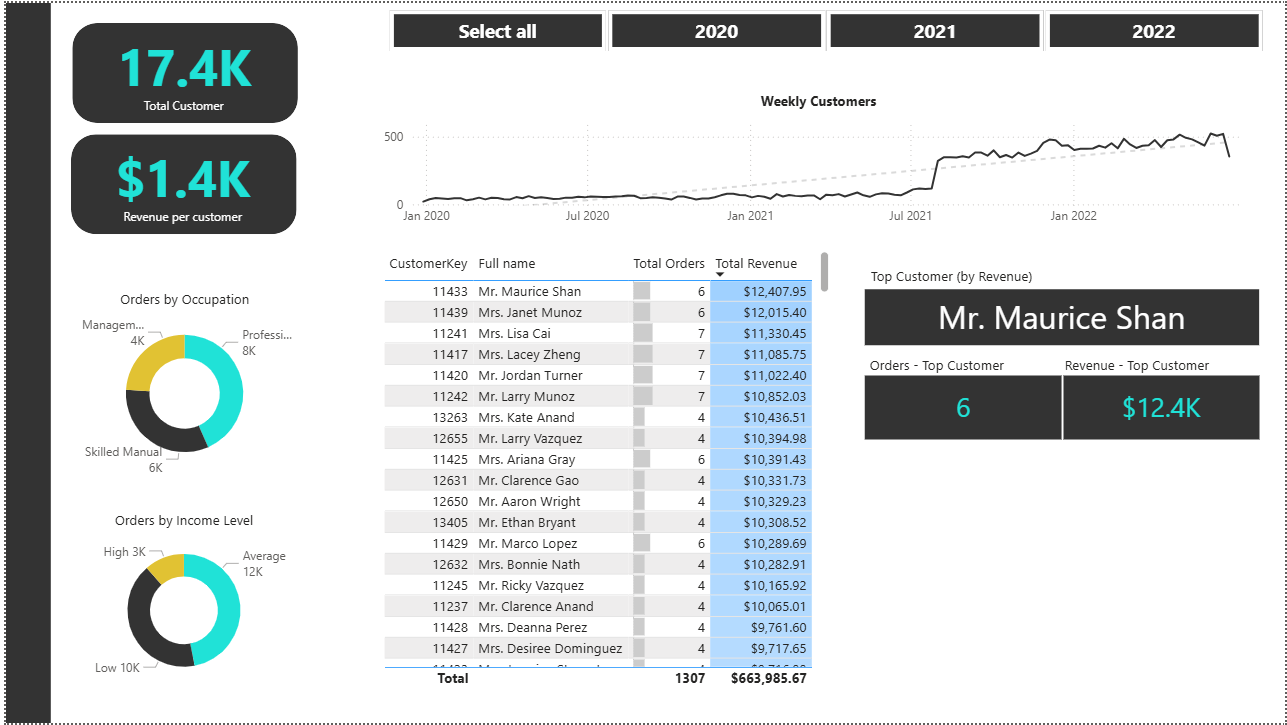

What the dashboard file says about the page in this screenshot:
{"tool":"powerbi","page":{"name":"Customer Details","canvas":[1280,720],"ordinal":3},"visuals":[{"type":"shape","box":[0,0,45,720],"z":0},{"type":"shape","box":[66.4,20.5,225.7,100],"z":1000},{"type":"shape","box":[65,131.5,225.7,100],"z":2000},{"type":"card","fields":{"Values":["Measure Table.Total Customer"]},"box":[73.8,23,208.8,95],"z":3000},{"type":"card","fields":{"Values":["Measure Table.Revenue per customer"]},"box":[72.3,134,208.8,95],"z":4000},{"type":"lineChart","title":"Weekly Customers","fields":{"Category":["Calendar Lookup.Start of week"],"Y":["Measure Table.Total Customer"]},"box":[372.9,88.6,880,142.9],"z":5000},{"type":"donutChart","title":"Orders by Occupation","fields":{"Category":["Customer Lookup.Occupation"],"Y":["Measure Table.Total Orders"]},"box":[66.2,286.2,225,191.2],"z":6000},{"type":"donutChart","title":"Orders by Income Level","fields":{"Y":["Measure Table.Total Orders"],"Category":["Customer Lookup.Income Level"]},"box":[65,507.5,226.2,182.5],"z":7000},{"type":"tableEx","fields":{"Values":["Customer Lookup.CustomerKey","Customer Lookup.Full name","Measure Table.Total Orders","Measure Table.Total Revenue"]},"box":[372.9,244.3,455.7,445.7],"z":8000},{"type":"card","fields":{"Values":["Customer Lookup.Full name"]},"box":[858.6,285.7,394.3,55.7],"z":9000},{"type":"textbox","box":[860,258.6,195.7,34.3],"z":10000},{"type":"card","fields":{"Values":["Measure Table.Total Orders"]},"box":[858.6,372.9,197.1,64.3],"z":11000},{"type":"card","fields":{"Values":["Measure Table.Total Revenue"]},"box":[1057.1,372.9,195.7,64.3],"z":12000},{"type":"textbox","box":[858.6,347.1,195.7,34.3],"z":13000},{"type":"textbox","box":[1054.3,347.1,195.7,34.3],"z":14000},{"type":"slicer","fields":{"Values":["Calendar Lookup.Year"]},"box":[357.1,0,922.9,52.9],"z":15000}]}

Visuals, with their boxes in screenshot pixels (x1, y1, x2, y2), scaled from the page's 1280x720 canvas onto the 1287x725 screenshot:
shape: [x1=0, y1=0, x2=45, y2=724]
shape: [x1=67, y1=21, x2=294, y2=121]
shape: [x1=65, y1=132, x2=292, y2=233]
card - Measure Table.Total Customer: [x1=74, y1=23, x2=284, y2=119]
card - Measure Table.Revenue per customer: [x1=73, y1=135, x2=283, y2=231]
"Weekly Customers" lineChart: [x1=375, y1=89, x2=1260, y2=233]
"Orders by Occupation" donutChart: [x1=67, y1=288, x2=293, y2=481]
"Orders by Income Level" donutChart: [x1=65, y1=511, x2=293, y2=695]
tableEx - Customer Lookup.CustomerKey x Customer Lookup.Full name: [x1=375, y1=246, x2=833, y2=695]
card - Customer Lookup.Full name: [x1=863, y1=288, x2=1260, y2=344]
textbox: [x1=865, y1=260, x2=1061, y2=295]
card - Measure Table.Total Orders: [x1=863, y1=375, x2=1061, y2=440]
card - Measure Table.Total Revenue: [x1=1063, y1=375, x2=1260, y2=440]
textbox: [x1=863, y1=350, x2=1060, y2=384]
textbox: [x1=1060, y1=350, x2=1257, y2=384]
slicer - Calendar Lookup.Year: [x1=359, y1=0, x2=1286, y2=53]
